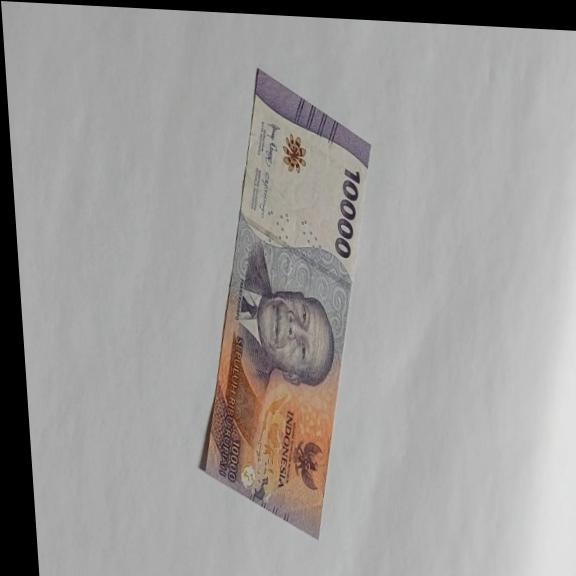Kertas: (172, 63, 399, 544), (328, 165, 366, 261)
